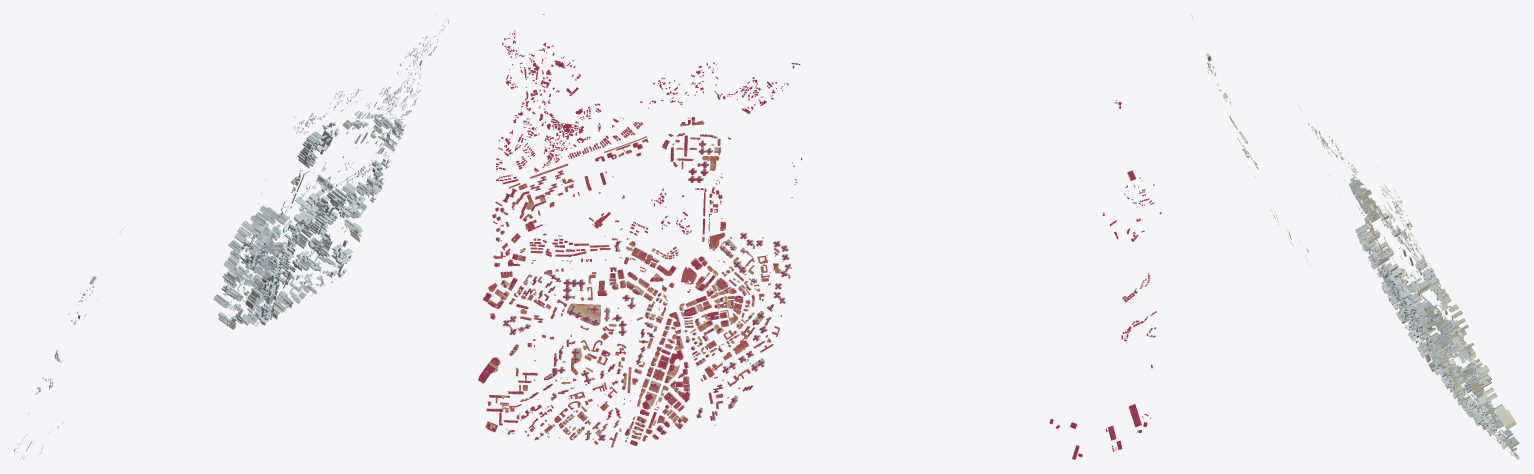
3 views of the same model, side by side, from view 1: azimuth 30°, elevation 25°; view 2: azimuth 150°, elevation 25°; view 3: azimuth 270°, elevation 25° (orthographic). The views are drawn at different scales.
Visible parts, largest first — view 1: geometry_0; view 2: geometry_0; view 3: geometry_0.
Boxes of the visible parts, left/top/right/bottom form: geometry_0: left=14, top=14, right=449, bottom=459; geometry_0: left=478, top=14, right=1161, bottom=459; geometry_0: left=1191, top=14, right=1519, bottom=459.
Bounding box in the file's own units: 4950 × 2978 × 2843.
